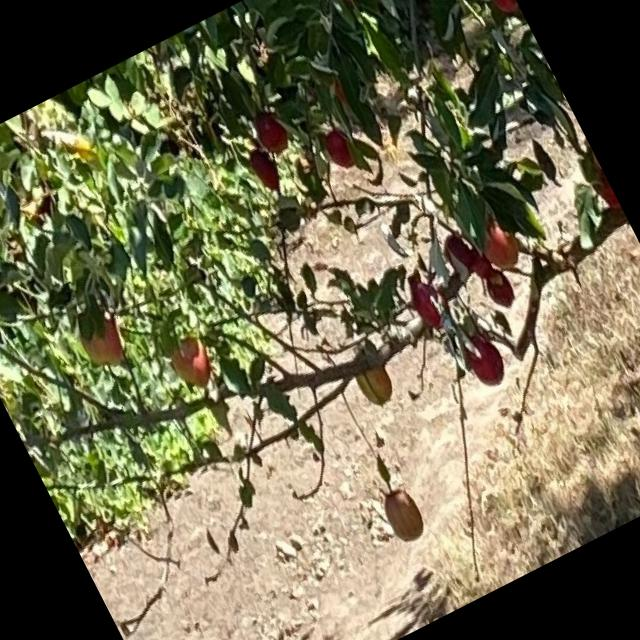Apples: (460, 329, 513, 394), (73, 310, 128, 372), (378, 483, 430, 547), (472, 216, 524, 276), (166, 336, 218, 394), (247, 104, 294, 160), (352, 357, 400, 411), (406, 276, 452, 331), (243, 143, 286, 195), (436, 228, 478, 278), (586, 165, 622, 218), (481, 268, 520, 314), (320, 126, 358, 172), (463, 240, 497, 280), (478, 0, 520, 18)
